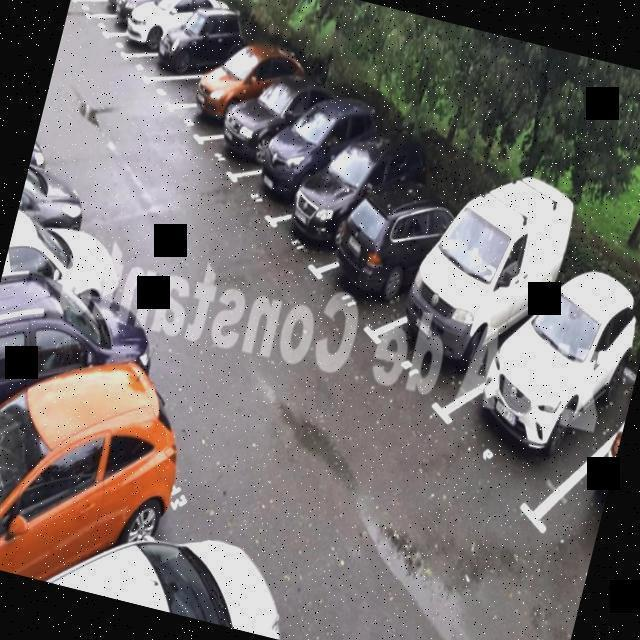space-empty: (154, 36, 250, 122)
space-occupied: (0, 339, 209, 608), (0, 234, 186, 463), (464, 300, 640, 487), (387, 218, 551, 410), (317, 169, 471, 339), (0, 189, 145, 358), (274, 135, 423, 279), (236, 101, 384, 232), (558, 346, 640, 555), (200, 81, 326, 189), (168, 57, 293, 155), (130, 15, 242, 98), (104, 0, 216, 76), (82, 0, 199, 62), (70, 0, 189, 48), (68, 0, 168, 31)
